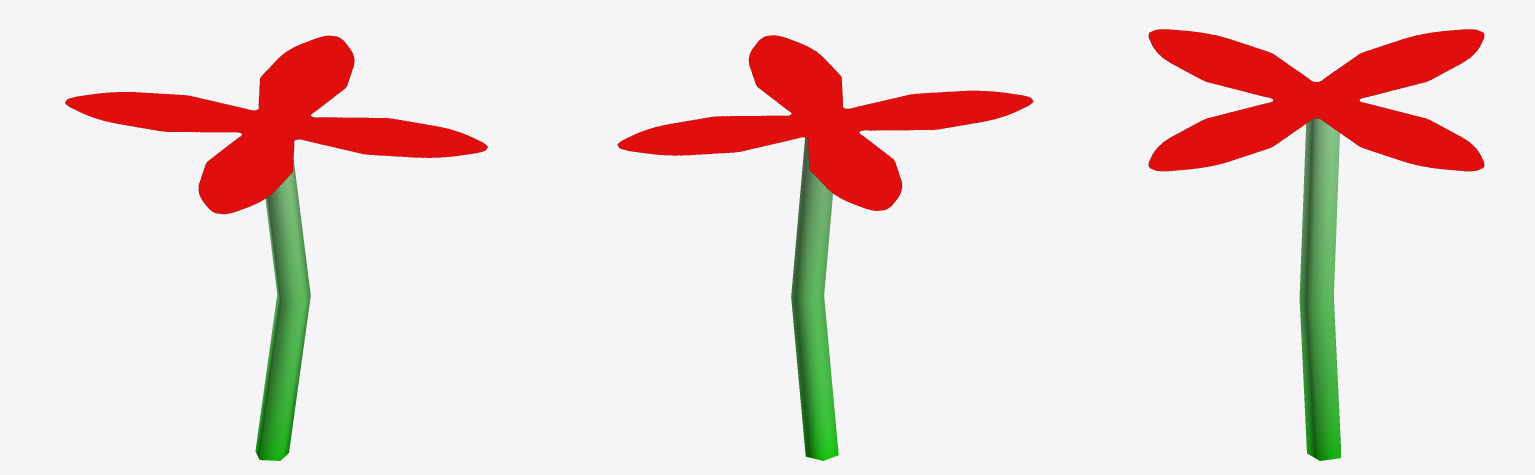
Rendered from flower1.glb.
3 views of the same model, side by side, from view 1: azimuth 30°, elevation 25°; view 2: azimuth 150°, elevation 25°; view 3: azimuth 270°, elevation 25° (orthographic). The views are drawn at different scales.
Parts seen in each view (by area): view 1: flower1; view 2: flower1; view 3: flower1.
Part boxes in pixels (x1,y1,x2,y2): flower1: (65, 35, 487, 460); flower1: (617, 35, 1033, 460); flower1: (1148, 29, 1484, 460).
Size of the model in its own units: 0.2163 by 0.2067 by 0.2163.
1 material, 1 textured.
